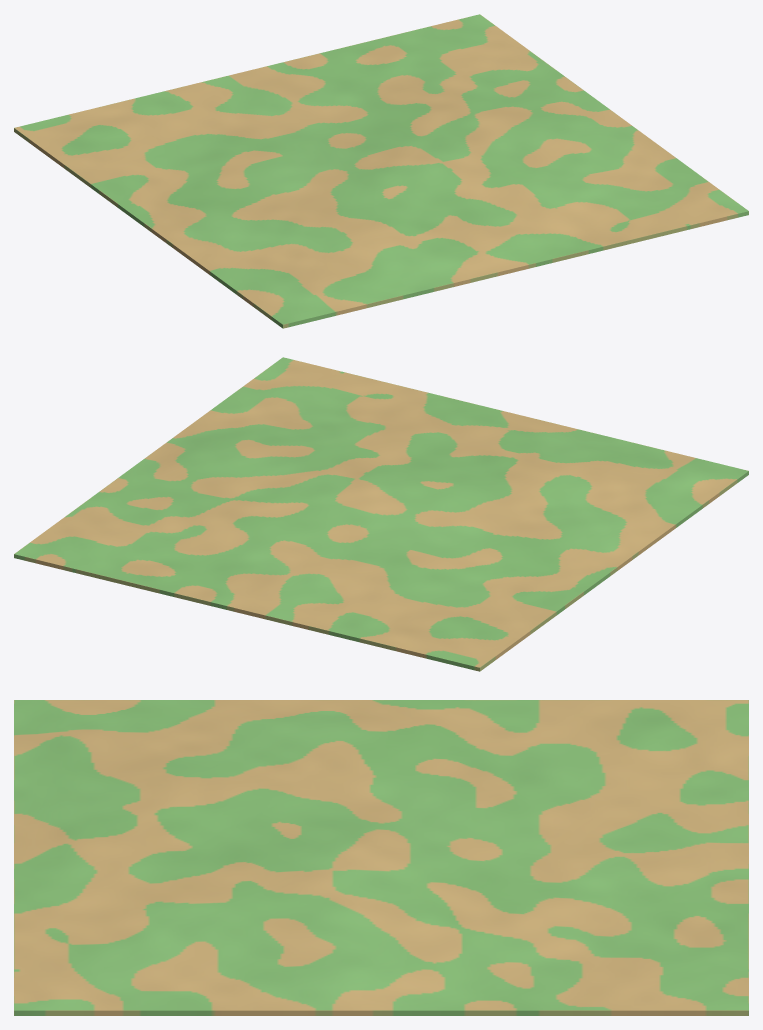
File: Grass_Flat_08.obj
3 renders of one model, top to bottom at view 1: azimuth 30°, elevation 25°; view 2: azimuth 150°, elevation 25°; view 3: azimuth 270°, elevation 25°, orthographic. The views are drawn at different scales.
Size of the model in its own units: 10 by 0.3003 by 10.
1 material, 1 textured.
